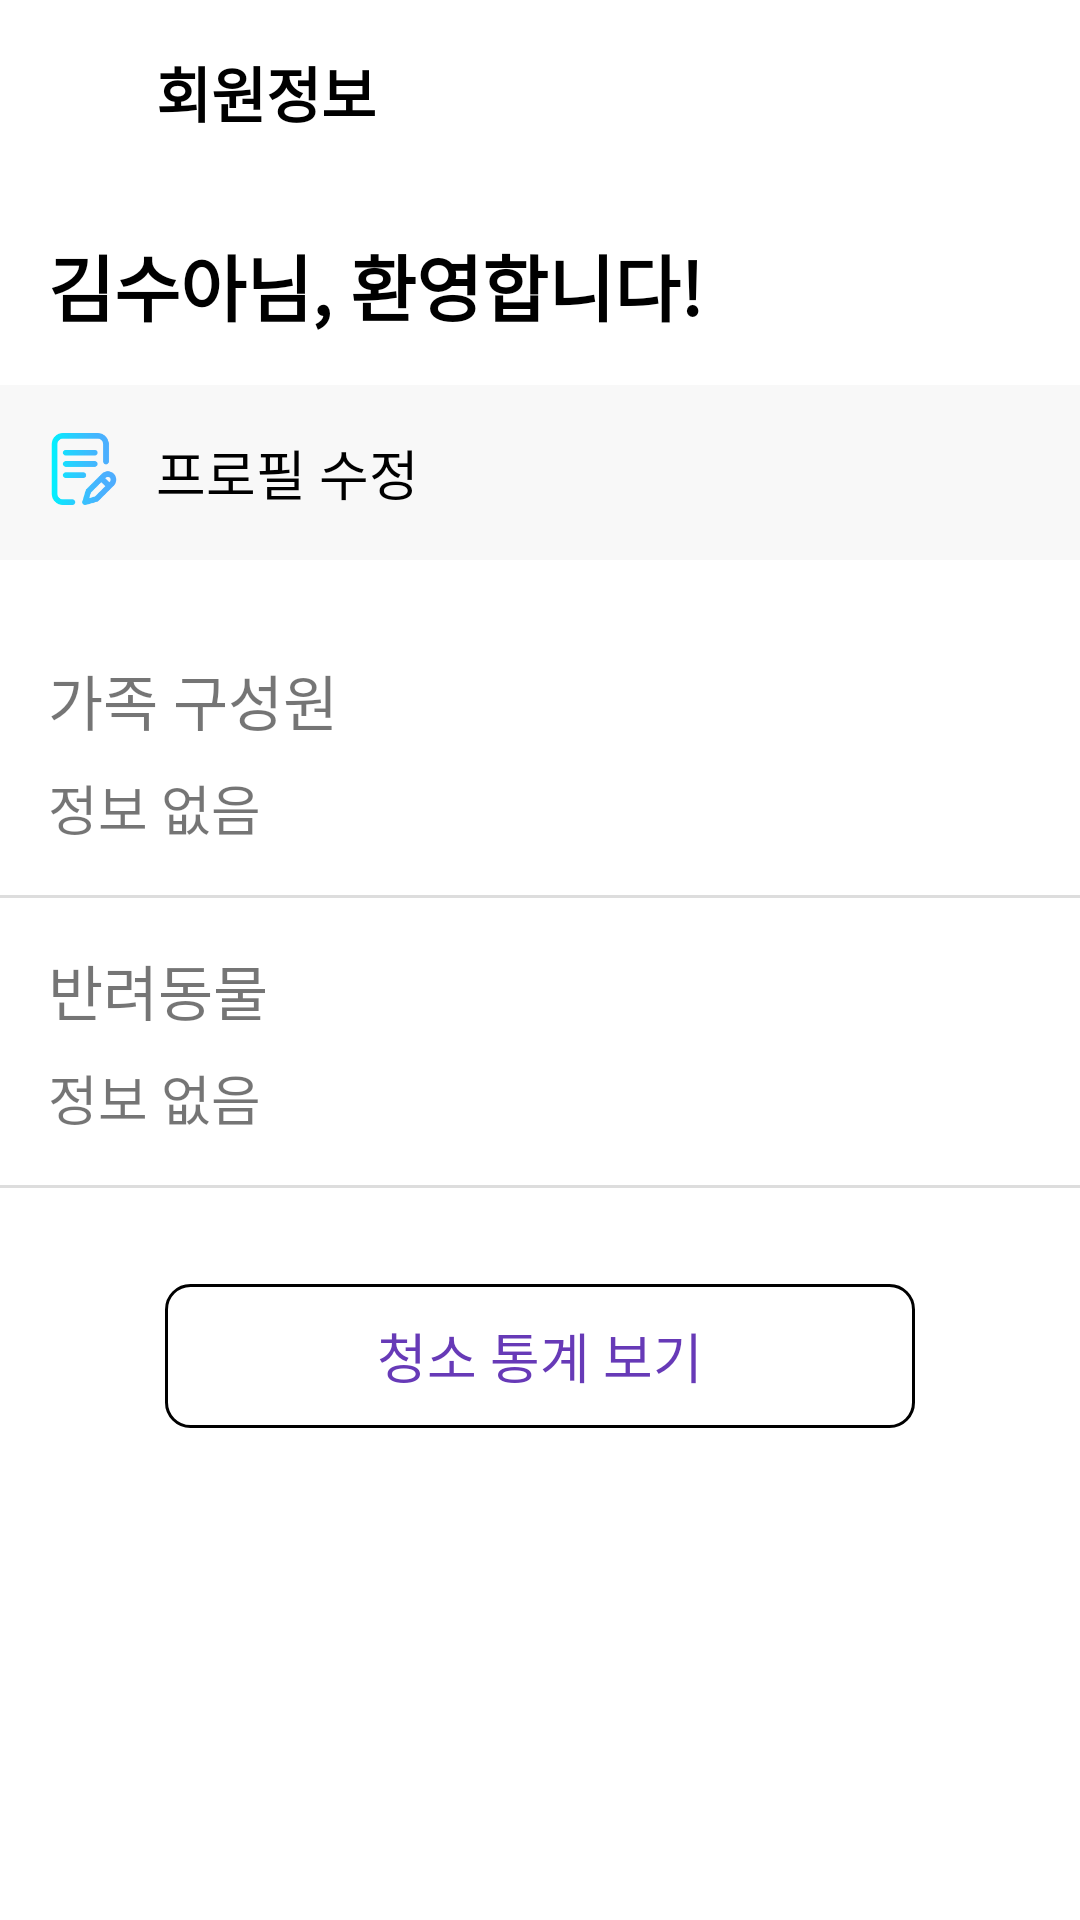

Point at icon controls on the screen. Image size 1080×1920, points as [x,y].
profile edit: [84,469]
